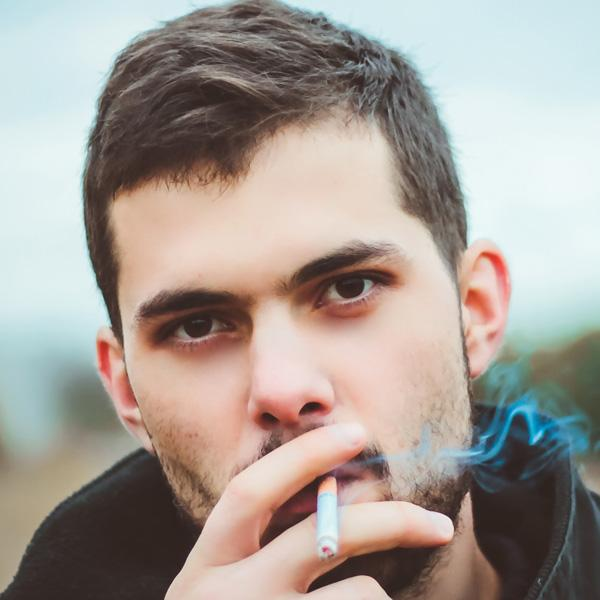Eyes: (149, 301, 242, 359), (306, 262, 398, 319)
